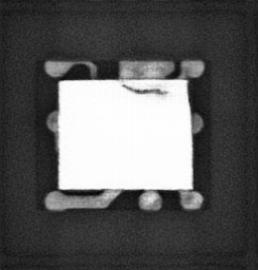DIE_INK: (122, 83, 169, 95)
